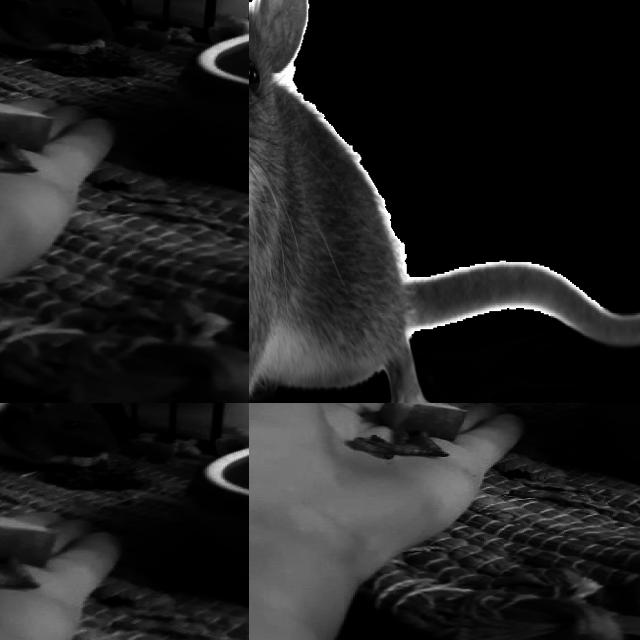rat: (249, 0, 441, 403), (0, 403, 122, 473), (0, 0, 120, 64)
